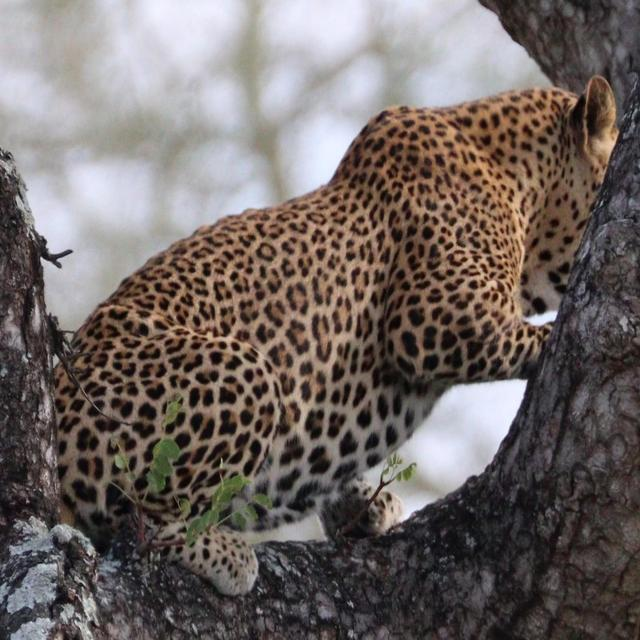Leopard: (31, 79, 622, 606)
